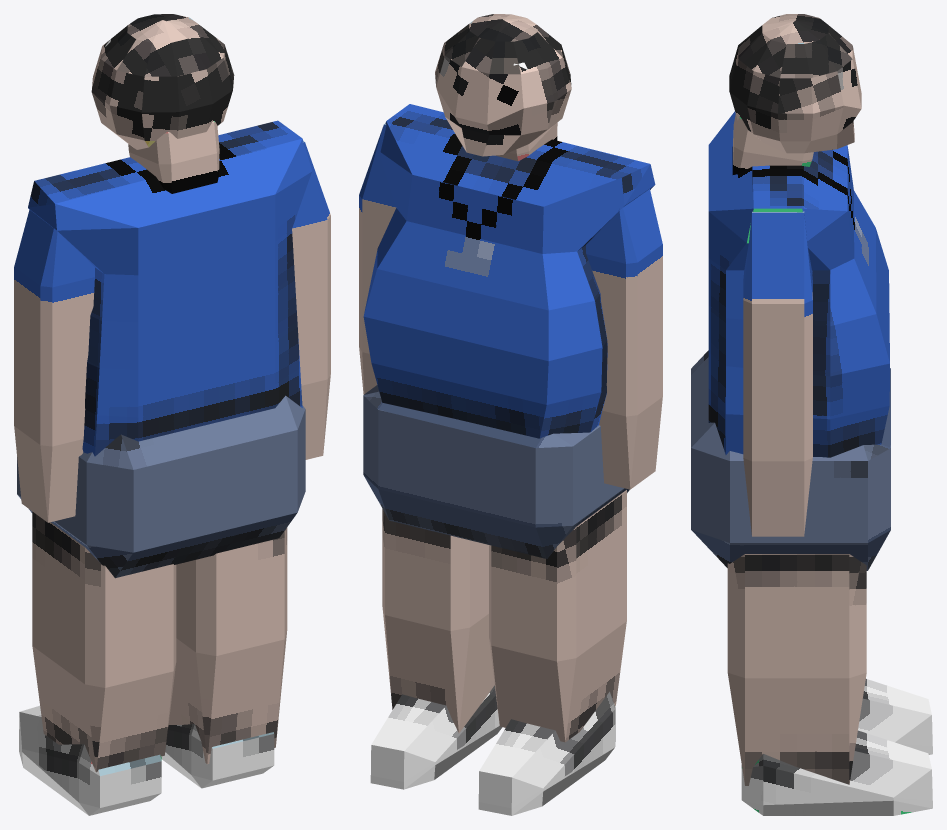
The model's file is coach.gltf.
3 views of the same model, side by side, from view 1: azimuth 30°, elevation 25°; view 2: azimuth 150°, elevation 25°; view 3: azimuth 270°, elevation 25° (orthographic). The views are drawn at different scales.
Parts seen in each view (by area): view 1: beveled_cuboid (×9), sphere; view 2: beveled_cuboid (×9), sphere; view 3: beveled_cuboid (×7), sphere.
Boxes of the visible parts, left/top/right/bottom form: beveled_cuboid (×9): left=14, top=120, right=330, bottom=815; sphere: left=91, top=14, right=234, bottom=149; beveled_cuboid (×9): left=359, top=104, right=662, bottom=815; sphere: left=435, top=14, right=571, bottom=156; beveled_cuboid (×7): left=691, top=111, right=932, bottom=815; sphere: left=729, top=14, right=861, bottom=153.
Size of the model in its own units: 1.19 by 2.99 by 0.8687.
2 materials, 1 textured.
